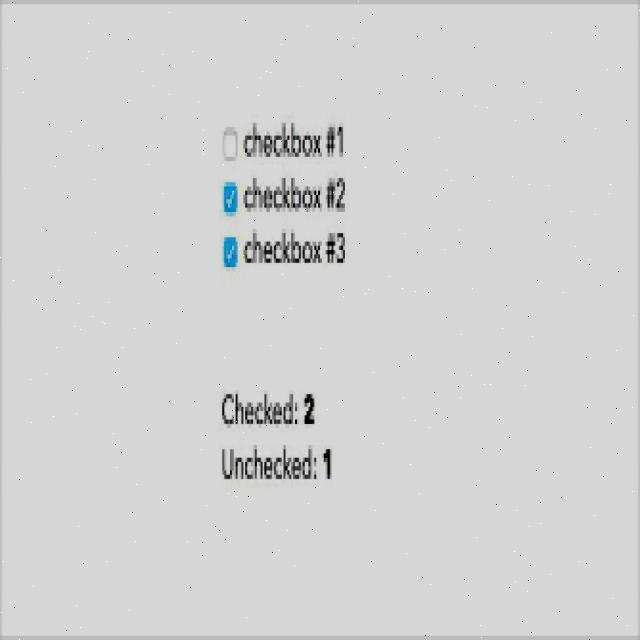checkbox: (222, 236, 240, 270), (222, 181, 238, 218), (222, 129, 239, 162)
label: (244, 113, 353, 167), (214, 443, 338, 482), (241, 175, 354, 217), (216, 385, 322, 429)
